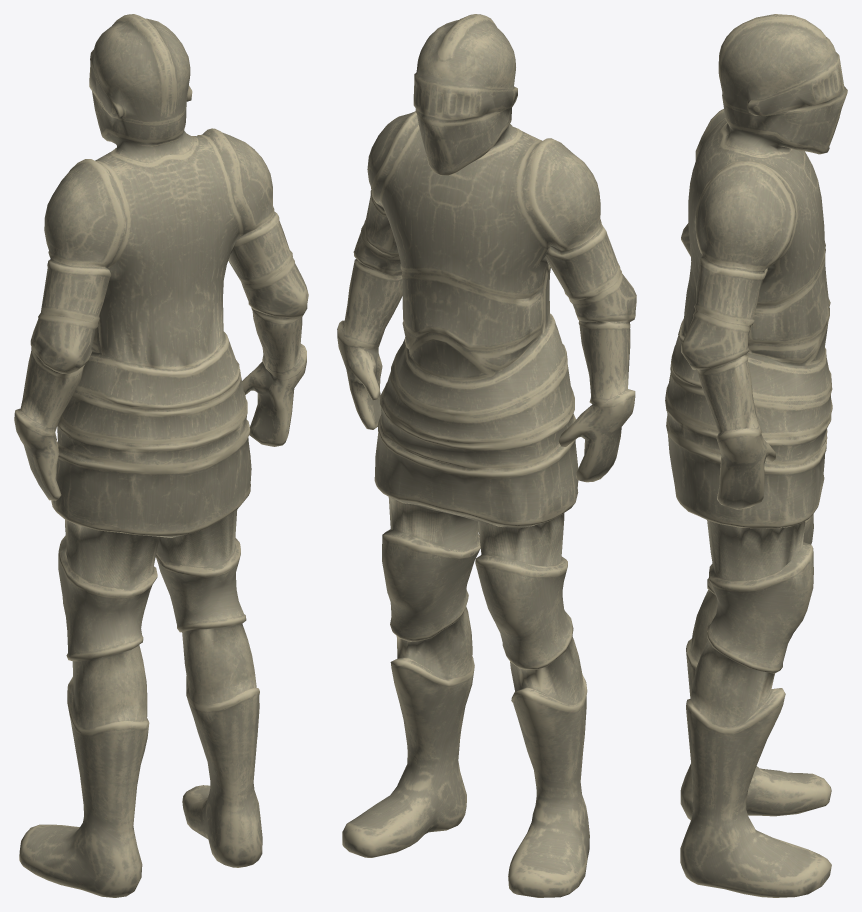
Rendered from ARC0510121.fbx.
3 views of the same model, side by side, from view 1: azimuth 30°, elevation 25°; view 2: azimuth 150°, elevation 25°; view 3: azimuth 270°, elevation 25° (orthographic).
Visible parts, largest first — view 1: smARC0510121; view 2: smARC0510121; view 3: smARC0510121.
Boxes of the visible parts, box(x1,y1,x2,y2) form: smARC0510121: box(14, 14, 308, 897); smARC0510121: box(337, 14, 636, 897); smARC0510121: box(665, 14, 847, 897).
Bounding box in the file's own units: 118 × 327 × 65.05.
1 material, 1 textured.
